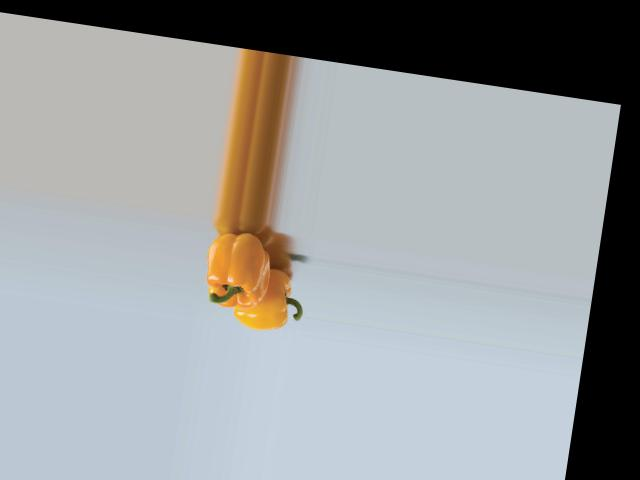bell_pepper: (229, 252, 309, 336)
